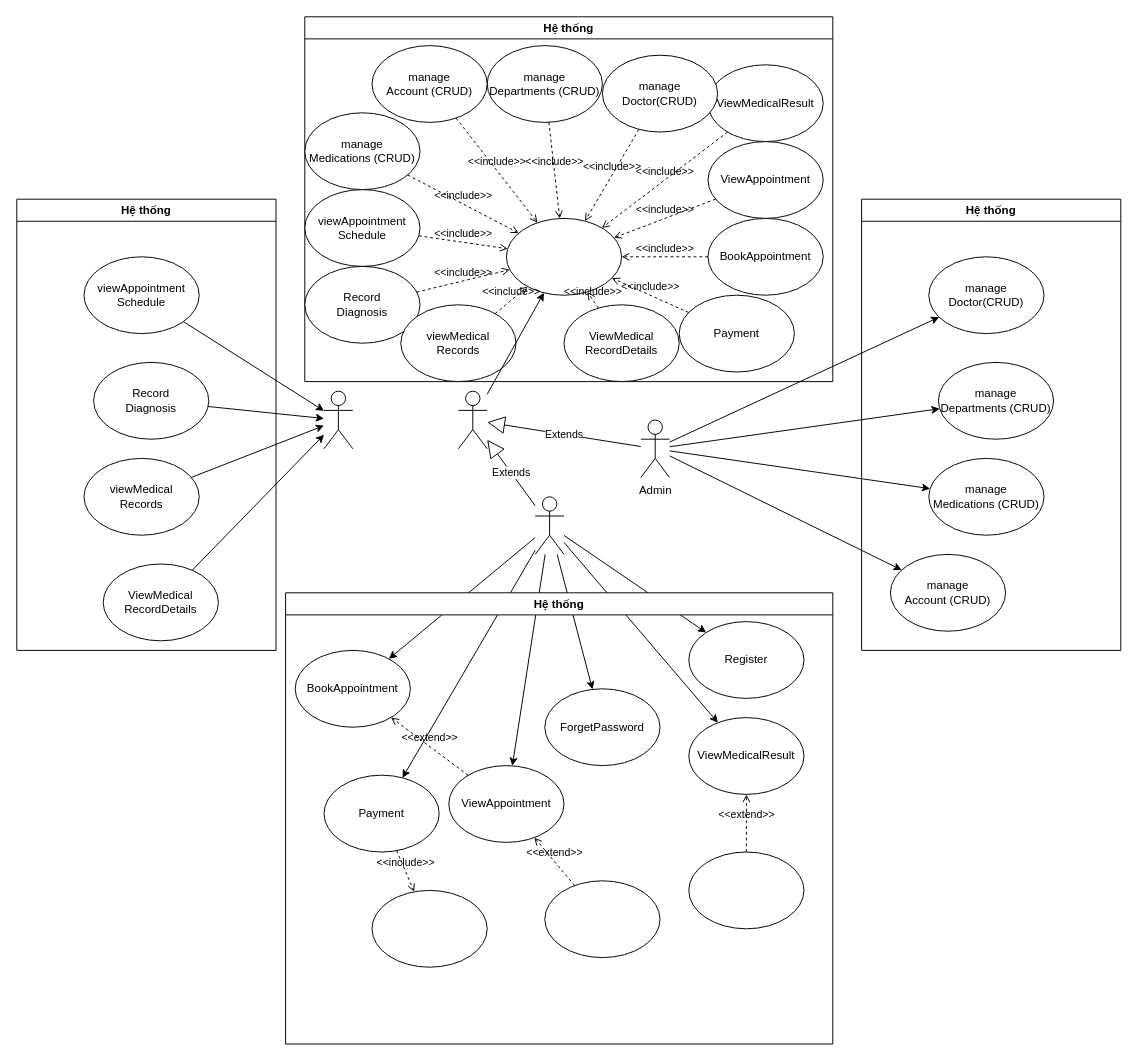
The diagram is 1138 pixels wide and 1061 high, and some of its shapes have lost their labels. The shapes that lost their labels are listed below. From the top down, each one's centre as x and y in pixels, then its label:
point 563,256: Login
point 338,419: Doctor
point 472,419: User
point 549,525: patient
point 746,890: ViewMedical ResultDetail
point 429,928: Deposit
point 602,919: ViewAppointmentDetail
